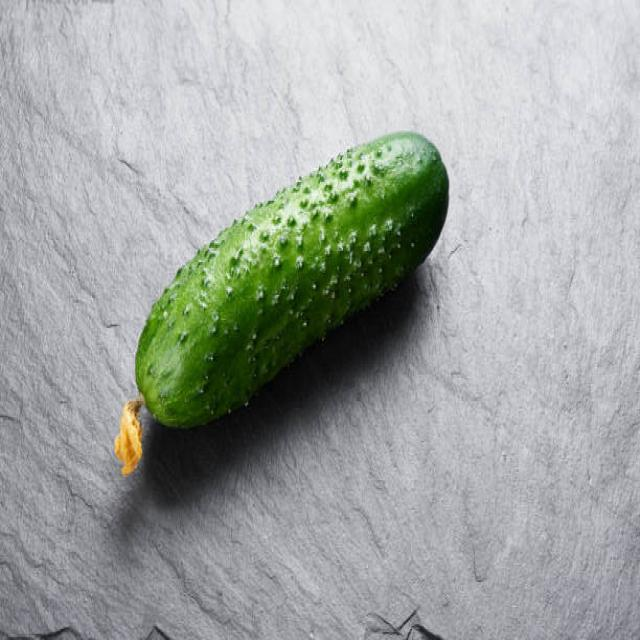cucumber: (134, 132, 449, 432)
